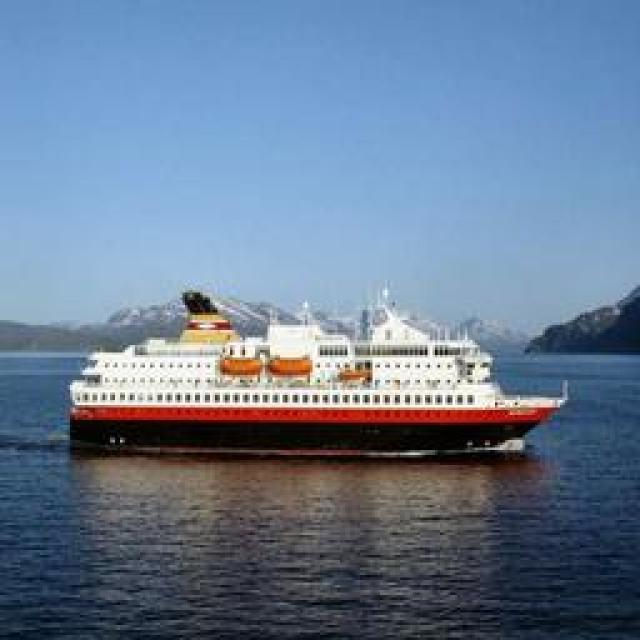ship2: (69, 278, 567, 461)
